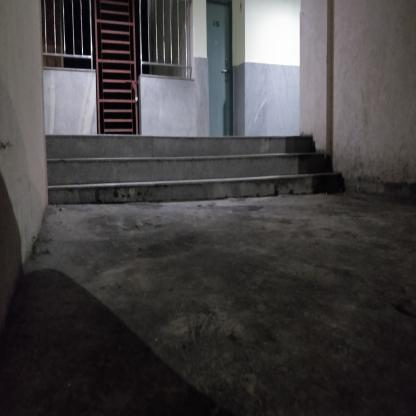stairs: (50, 134, 311, 208)
